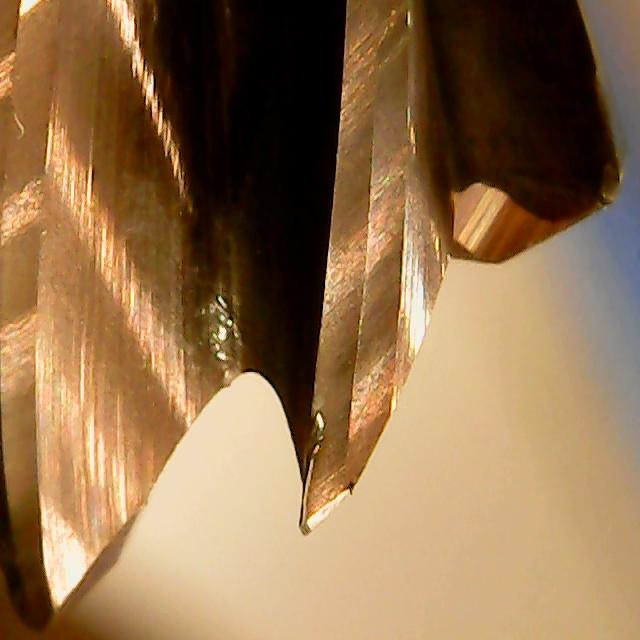Tool-wear-class-1: (278, 268, 386, 537)
